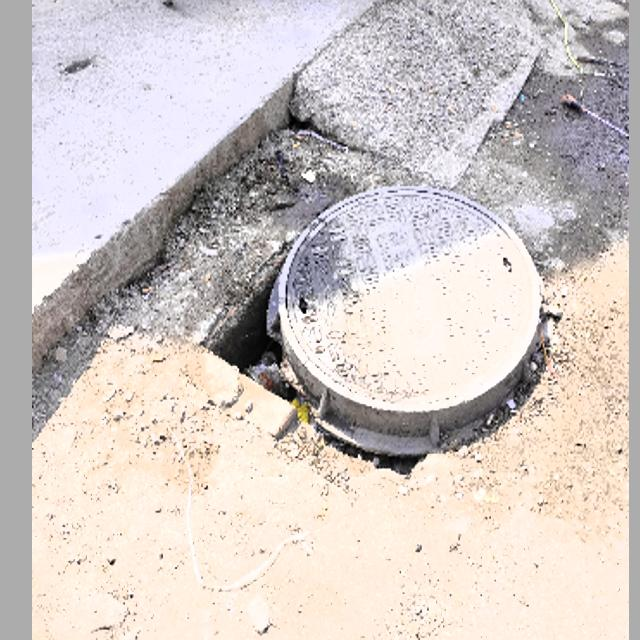circle: (227, 167, 557, 466)
